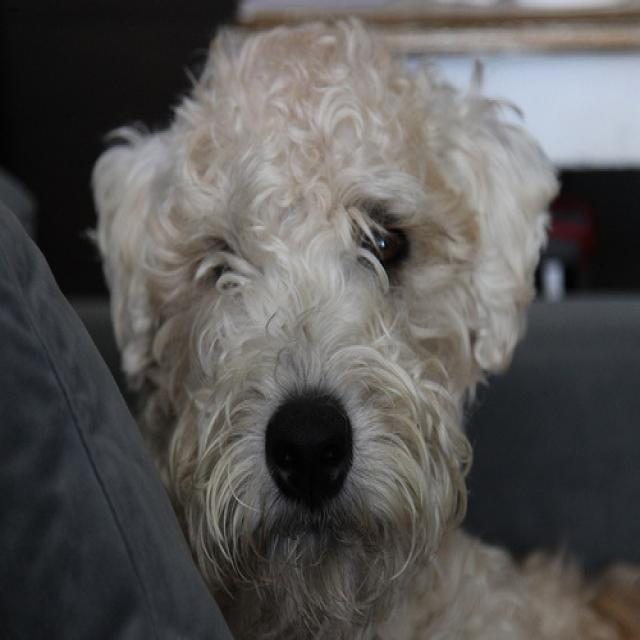dog-wheaten_terrier: (83, 9, 637, 637)
